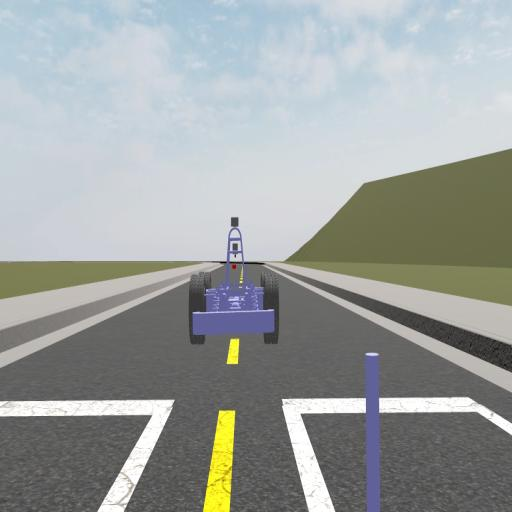ERP-42: (188, 216, 279, 344)
